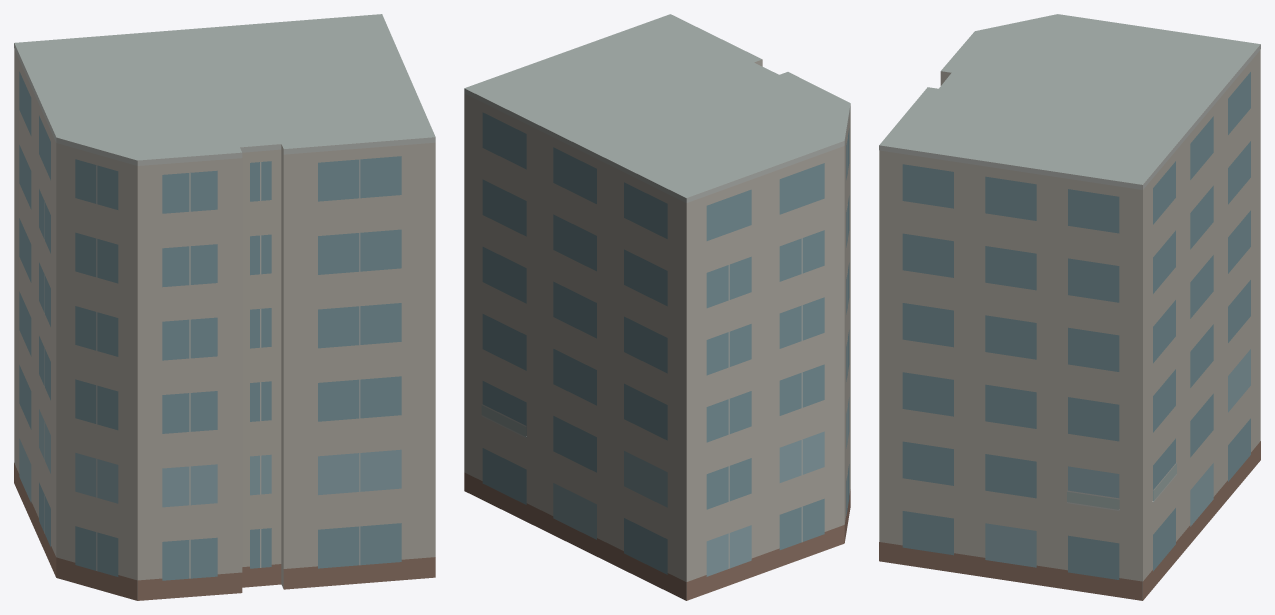
File: survey-upis-33004398.glb
The picture shows the model from 3 angles, left to right: view 1: azimuth 30°, elevation 25°; view 2: azimuth 150°, elevation 25°; view 3: azimuth 270°, elevation 25°; orthographic projection. The views are drawn at different scales.
Visible parts, largest first — view 1: survey-upis-33004398.tmp; view 2: survey-upis-33004398.tmp; view 3: survey-upis-33004398.tmp.
Part boxes in pixels (x1=…): survey-upis-33004398.tmp: x1=14, y1=14, x2=435, y2=600; survey-upis-33004398.tmp: x1=464, y1=14, x2=850, y2=600; survey-upis-33004398.tmp: x1=879, y1=14, x2=1260, y2=600.
Bounding box in the file's own units: 17.28 × 19.6 × 16.31.
